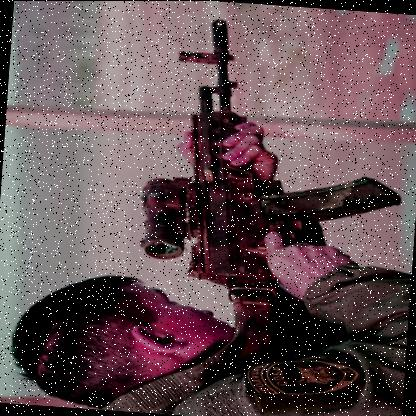rifle: (127, 10, 412, 391)
